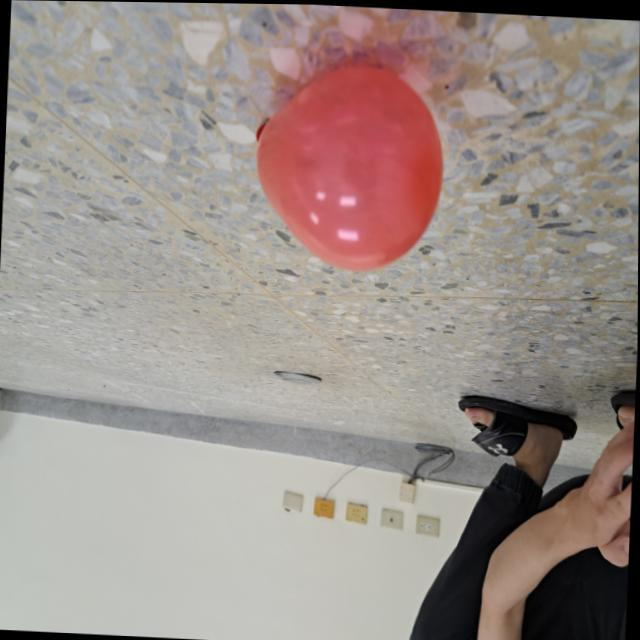red: (249, 55, 448, 278)
